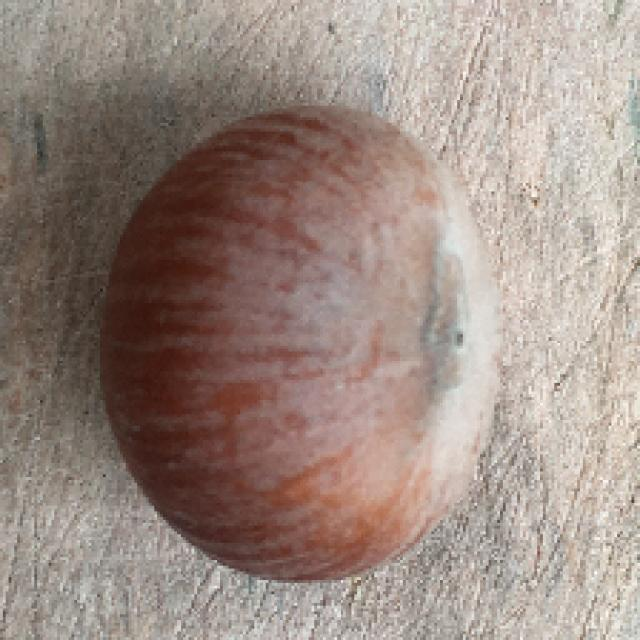qualityHazelnut: (102, 102, 504, 578)
